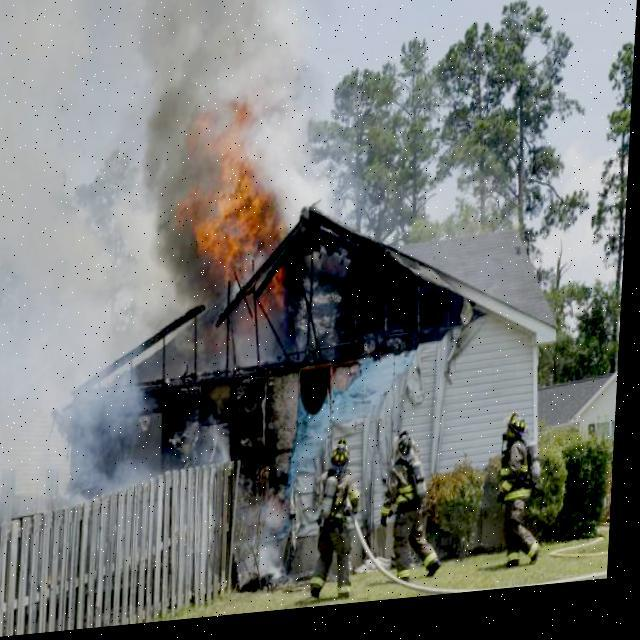Fire: (170, 99, 302, 334)
